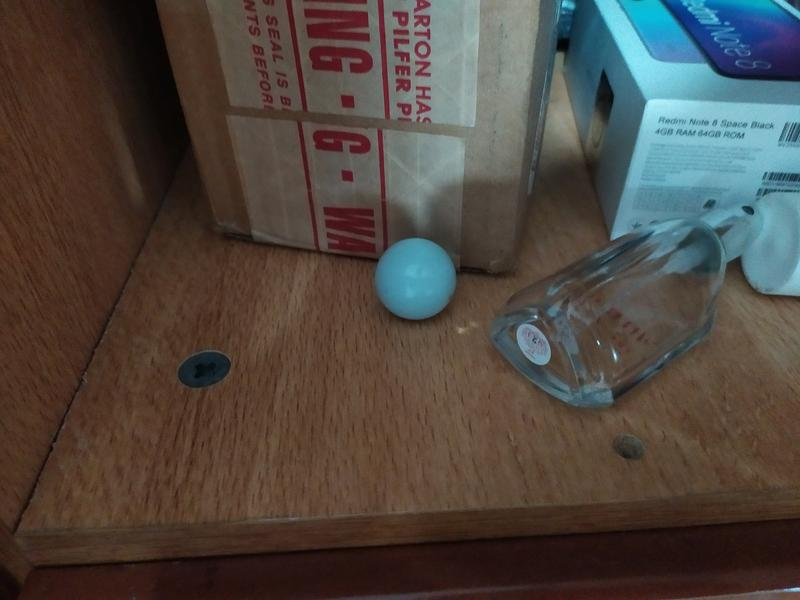Warning: (371, 235, 460, 323)
